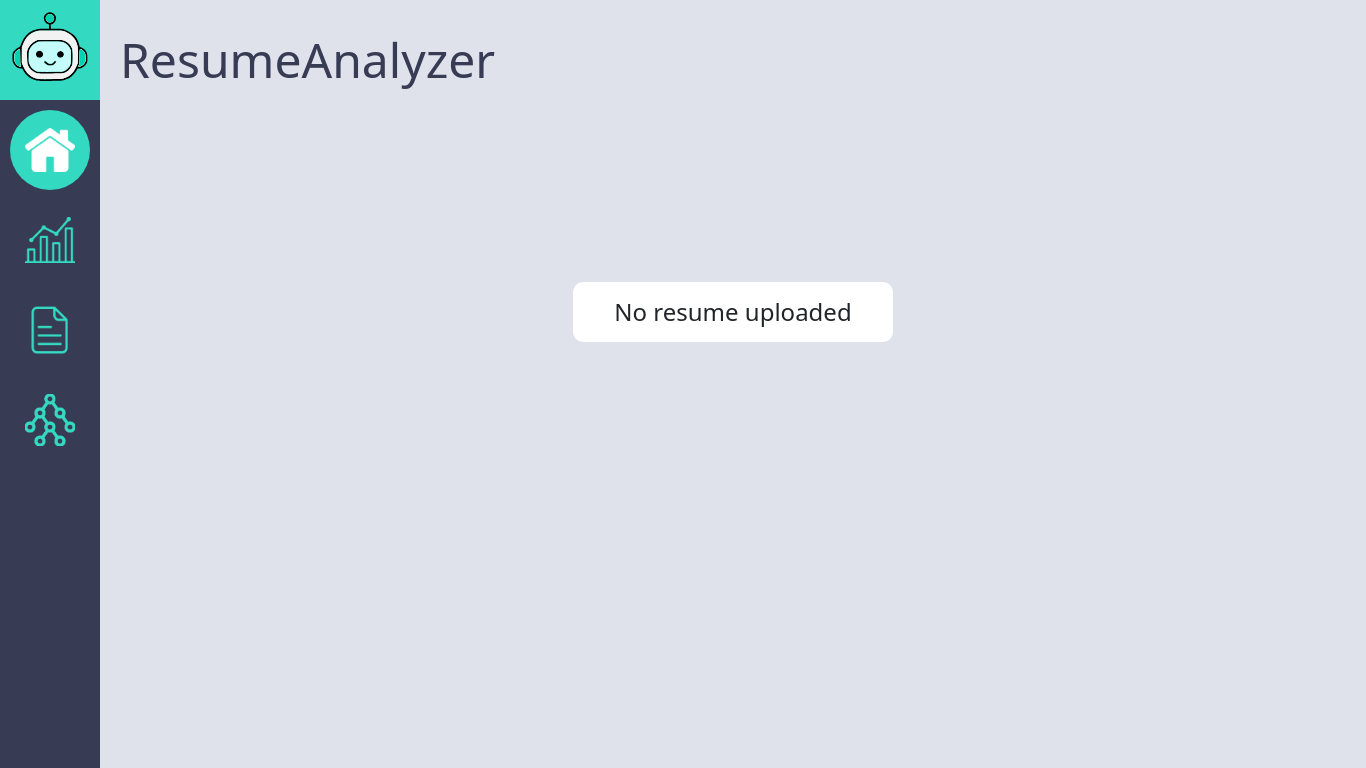
Test: Test changing the page using the sidebar › When the reports page icon is clicked, the reports page should be shown
Click the 4th button with alt text "Reports Icon".
click(50, 330)  # box [25,305,75,355]
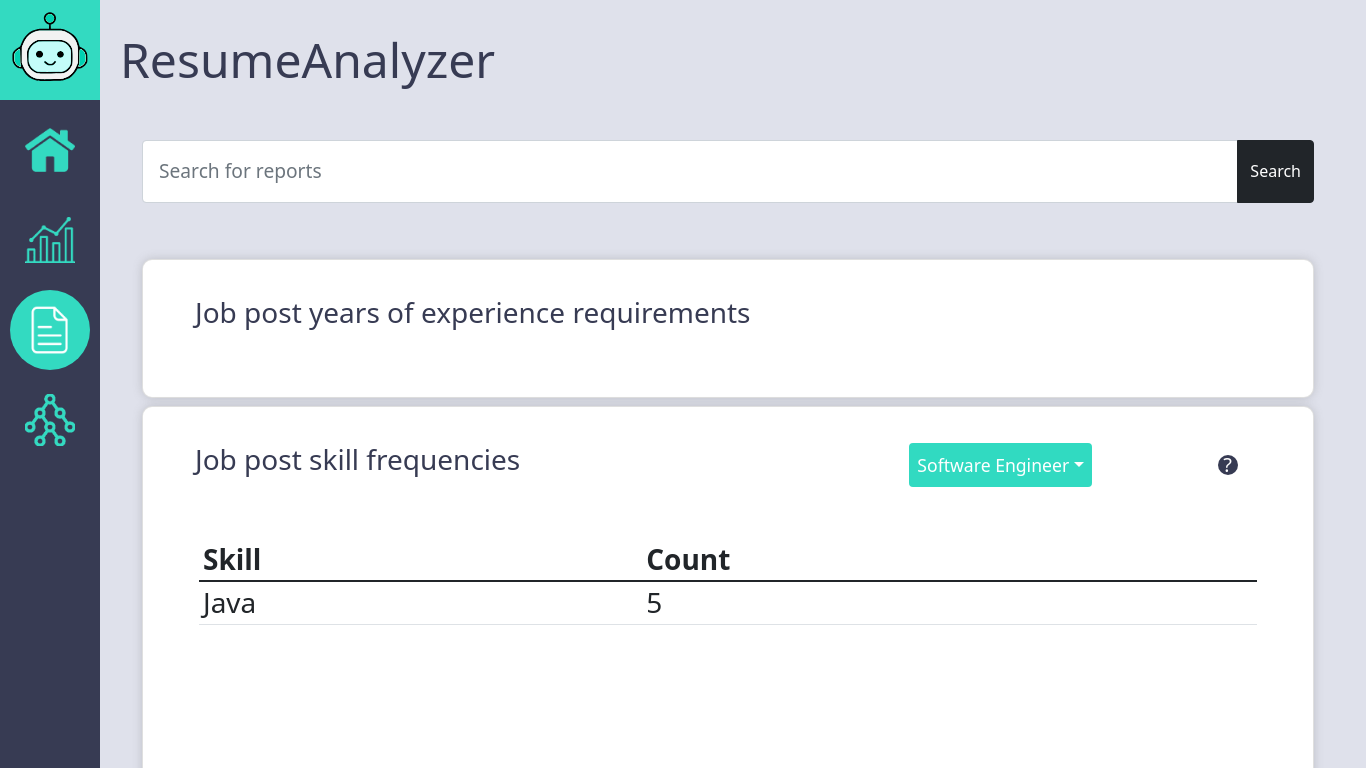
Expected: the button "Search" is shown, [1237,140,1314,203]
